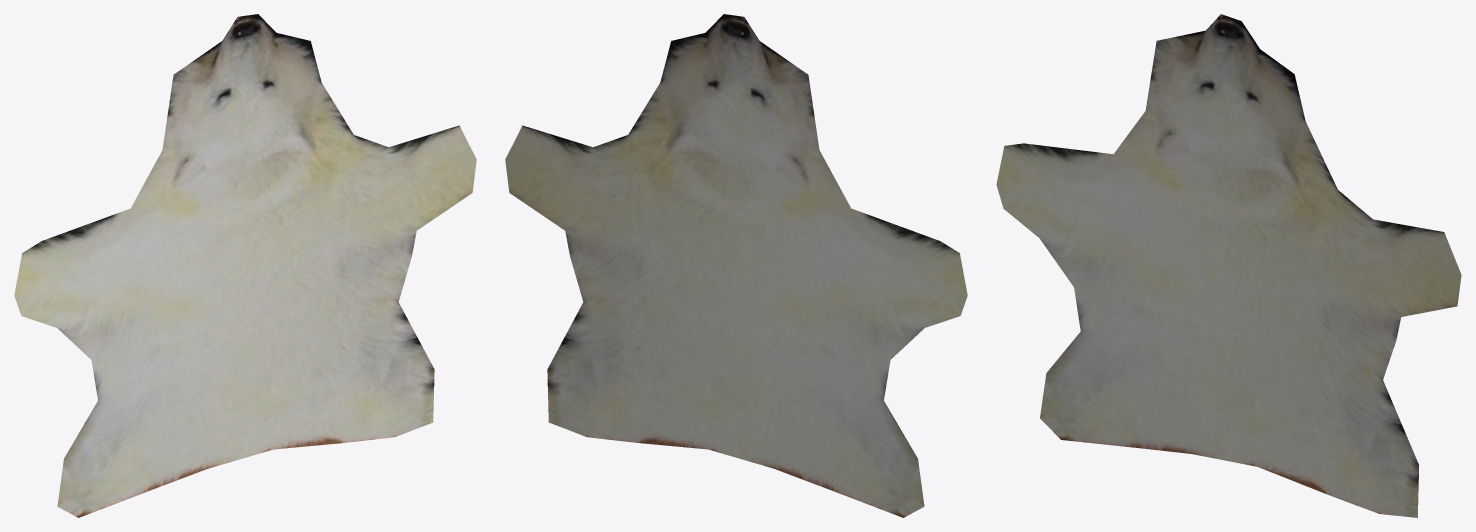
Rendered from bear.fbx.
3 renders of one model, left to right at view 1: azimuth 30°, elevation 25°; view 2: azimuth 150°, elevation 25°; view 3: azimuth 330°, elevation 25°, orthographic.
Parts seen in each view (by area): view 1: Circle; view 2: Circle; view 3: Circle.
Part boxes in pixels (x1,y1,x2,y2): Circle: (14, 14, 476, 517); Circle: (505, 14, 967, 517); Circle: (996, 14, 1461, 517).
Size of the model in its own units: 0.0993 by 0.0949 by 5.81e-18.
